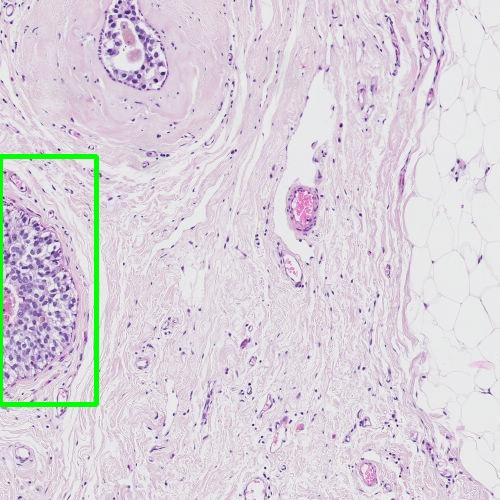DCIS: (0, 156, 96, 404)
